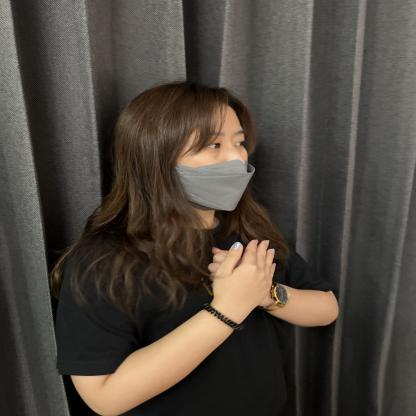Grieve: (168, 238, 412, 388)
